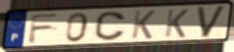0: (65, 12, 90, 43)
C: (93, 11, 127, 42)
F: (27, 12, 62, 45)
K: (163, 8, 191, 39), (129, 10, 157, 40)
V: (195, 4, 229, 39)
